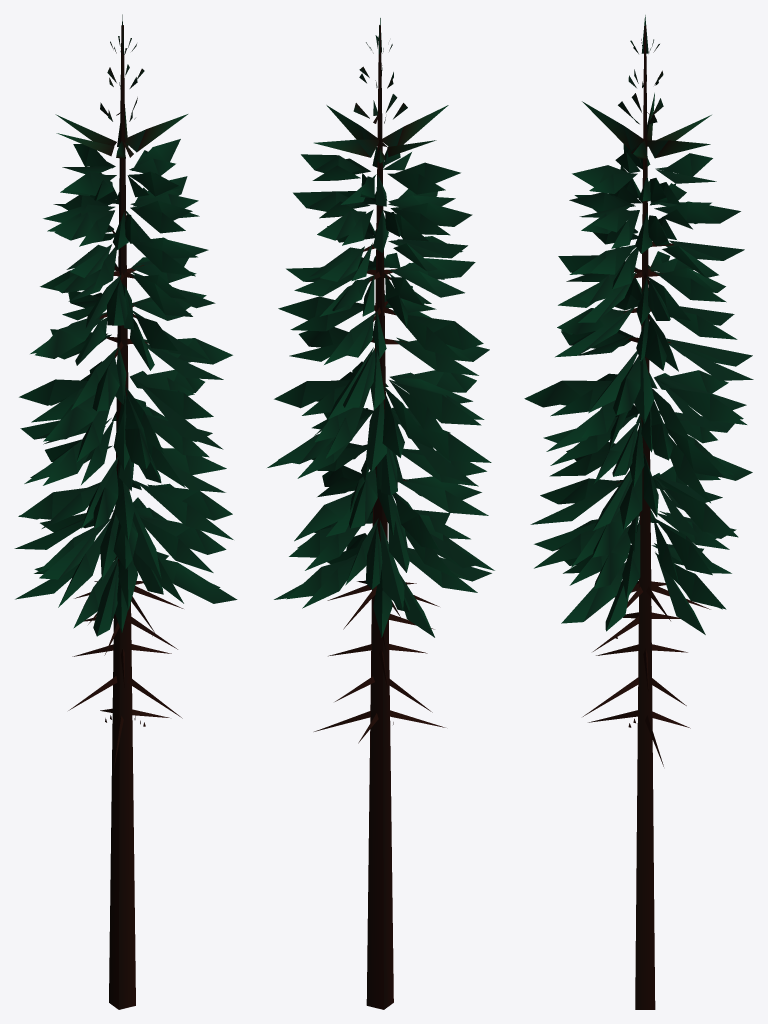
File: fir-lod2.glb
3 renders of one model, left to right at view 1: azimuth 30°, elevation 25°; view 2: azimuth 150°, elevation 25°; view 3: azimuth 270°, elevation 25°, orthographic.
Parts seen in each view (by area): view 1: tree; view 2: tree; view 3: tree.
Boxes of the visible parts, <box> form: tree: <box>14,14,237,1009</box>; tree: <box>267,18,494,1009</box>; tree: <box>524,15,753,1009</box>.
Bounding box in the file's own units: 4.52 × 22 × 4.62.
